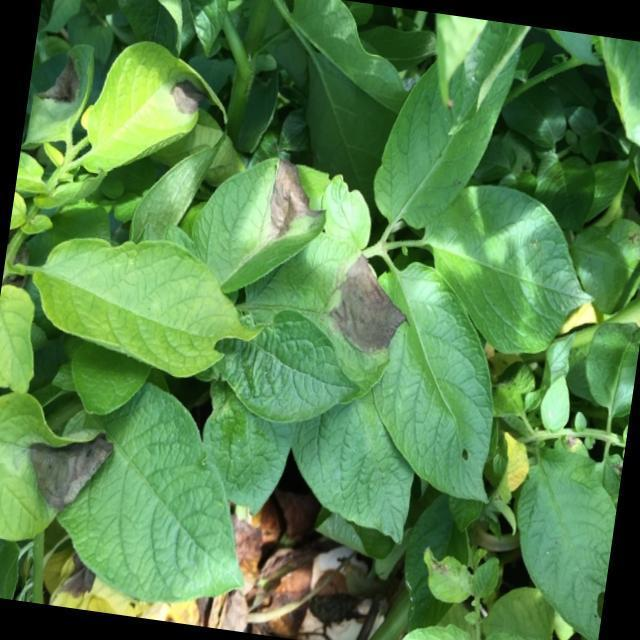Healthy Leaf: (21, 223, 264, 370), (423, 199, 596, 335)
